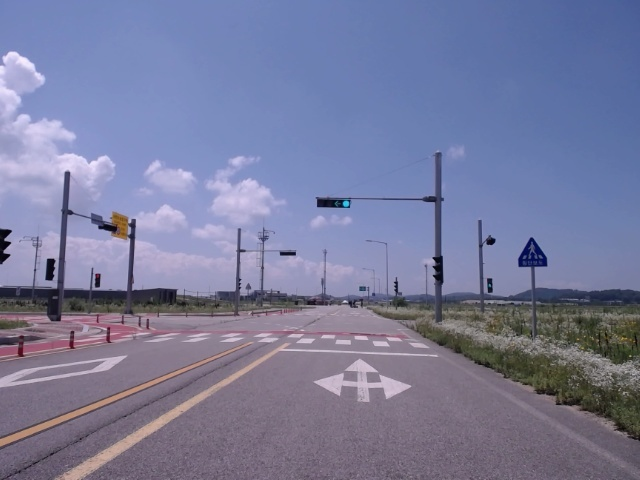all_green_4: (315, 197, 353, 208)
